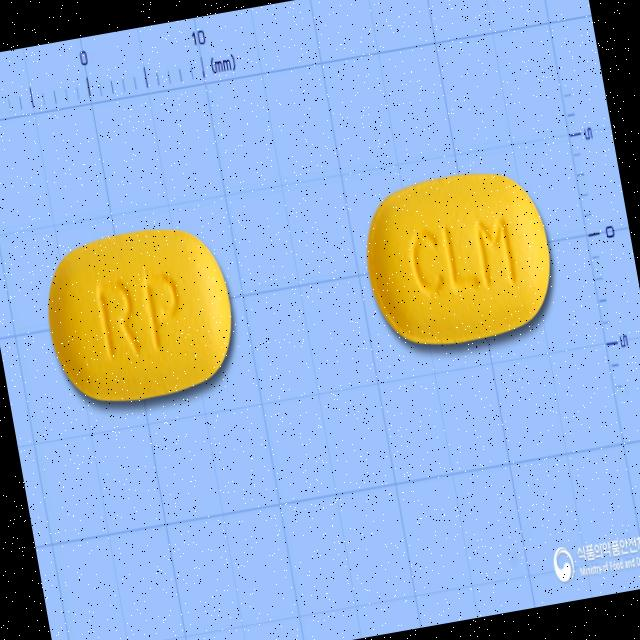Rpclari Tab: (352, 158, 562, 356), (36, 214, 244, 410)
